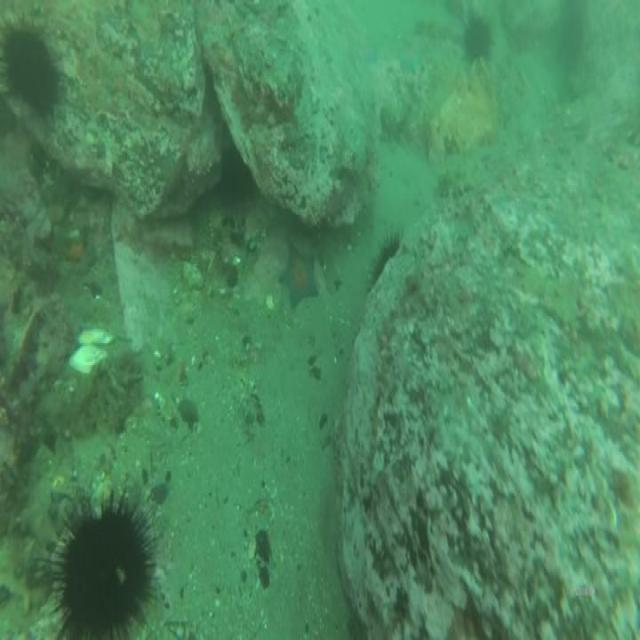echinus: (58, 496, 152, 638), (1, 16, 60, 134), (458, 9, 492, 68)
scallop: (72, 322, 115, 376)
starfish: (277, 234, 321, 310), (394, 36, 426, 79), (360, 36, 382, 70)
